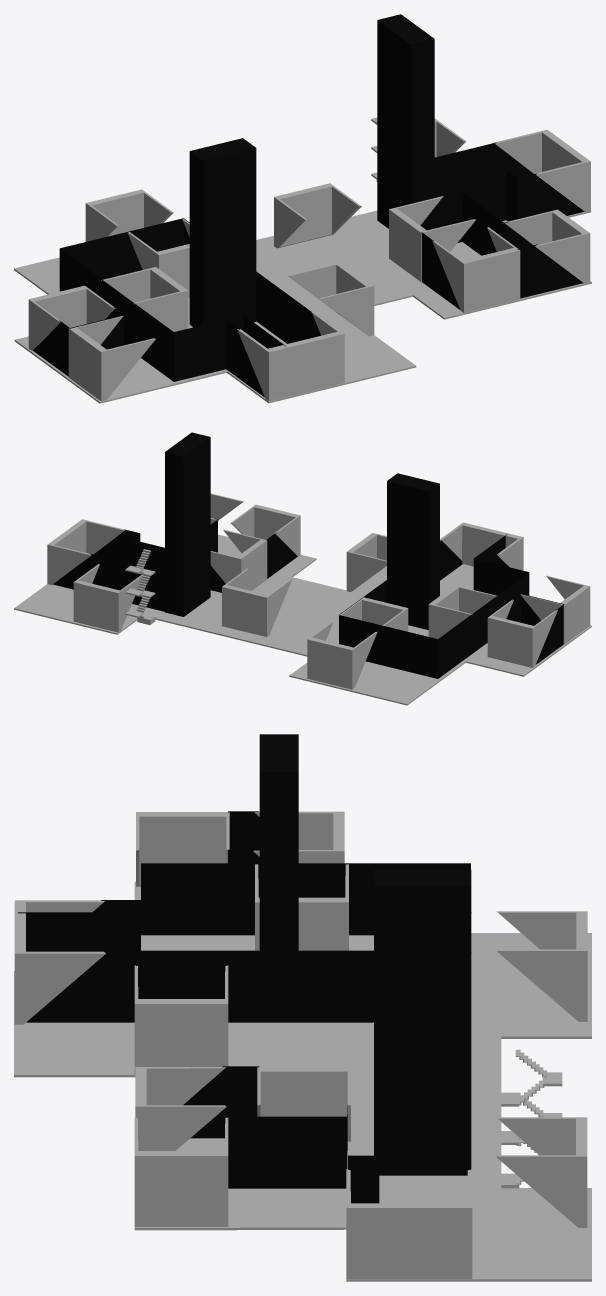
File: PISO1.glb
3 renders of one model, top to bottom at view 1: azimuth 30°, elevation 25°; view 2: azimuth 150°, elevation 25°; view 3: azimuth 270°, elevation 25°, orthographic. The views are drawn at different scales.
Parts seen in each view (by area): view 1: piso_0_1; view 2: piso_0_1; view 3: piso_0_1.
Boxes of the visible parts, left/top/right/bottom form: piso_0_1: left=14, top=14, right=591, bottom=403; piso_0_1: left=14, top=432, right=591, bottom=705; piso_0_1: left=14, top=734, right=591, bottom=1281.
Size of the model in its own units: 90.3 by 31.3 by 55.5.
Materials: 1 (1 with a texture image).
